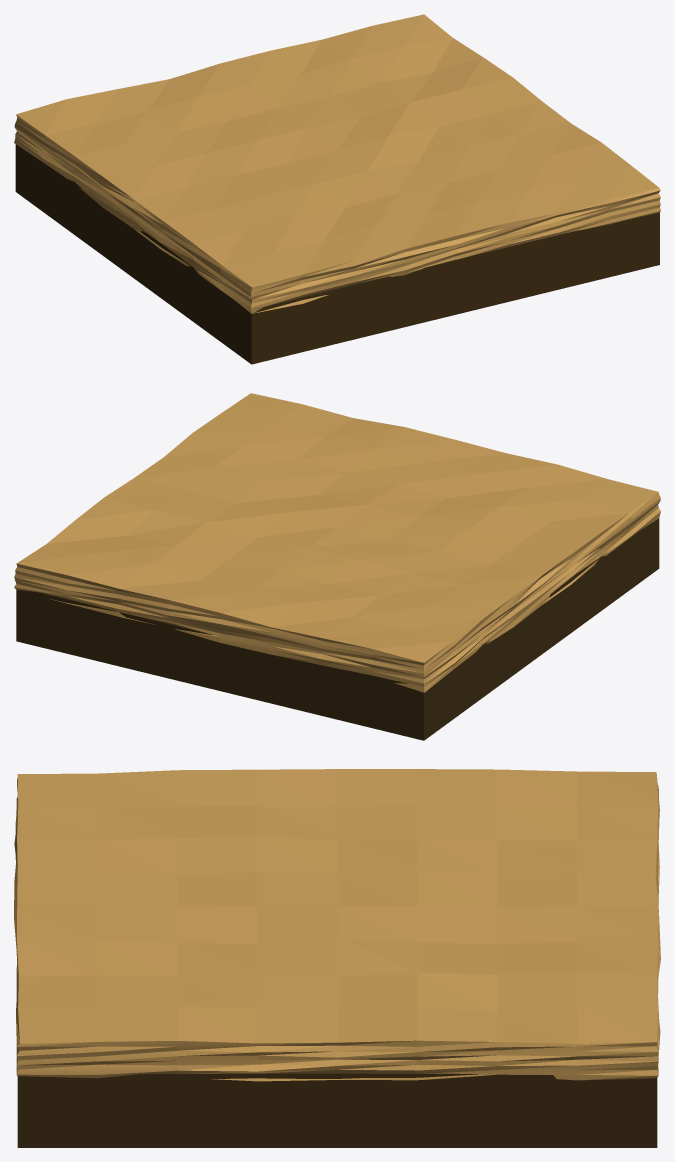
File: FLOOR8.fbx
3 views of the same model, one above another, from view 1: azimuth 30°, elevation 25°; view 2: azimuth 150°, elevation 25°; view 3: azimuth 270°, elevation 25° (orthographic). The views are drawn at different scales.
Parts seen in each view (by area): view 1: Cube_2, Cube, Cube_1; view 2: Cube_2, Cube, Cube_1; view 3: Cube_2, Cube, Cube_1.
Boxes of the visible parts, x1,y1,x2,y2 form: Cube_2: (14,14,660,313); Cube: (15,165,659,364); Cube_1: (15,144,659,337); Cube_2: (14,393,660,692); Cube: (16,541,659,740); Cube_1: (16,518,659,713); Cube_2: (14,769,660,1081); Cube: (17,1111,657,1147); Cube_1: (17,1073,657,1110).
Bounding box in the file's own units: 405 × 74.92 × 405.
